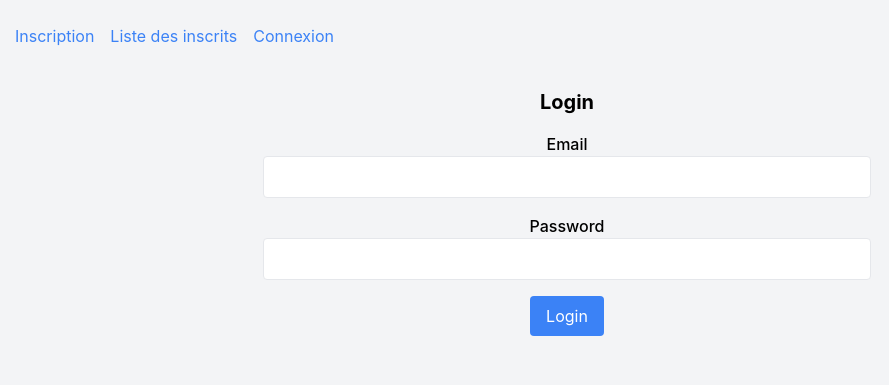
Scenario: Login Page testing › display error message for invalid user
In the field with id "email": (567, 177) [263, 156, 871, 198], type "fakeuser@example.com"
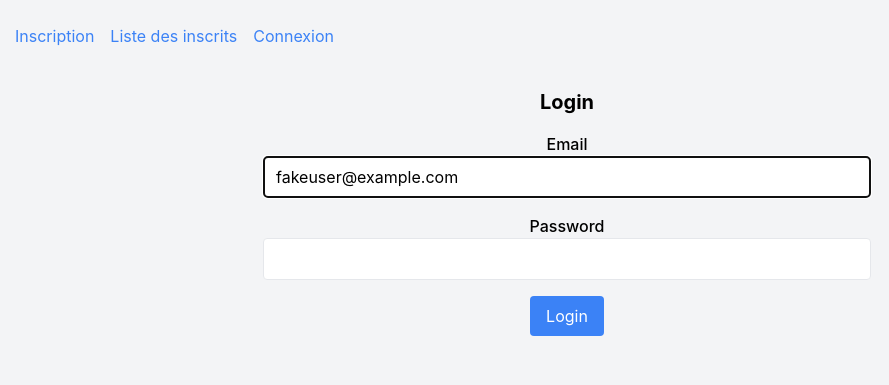
In the password field labelled "Password": (567, 259) [263, 238, 871, 280], type "wrongpassword"
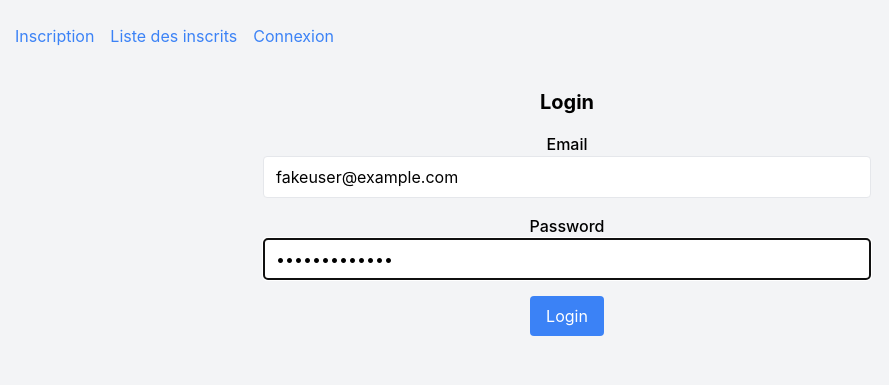
Click the submit button: (567, 316) [530, 296, 604, 336]
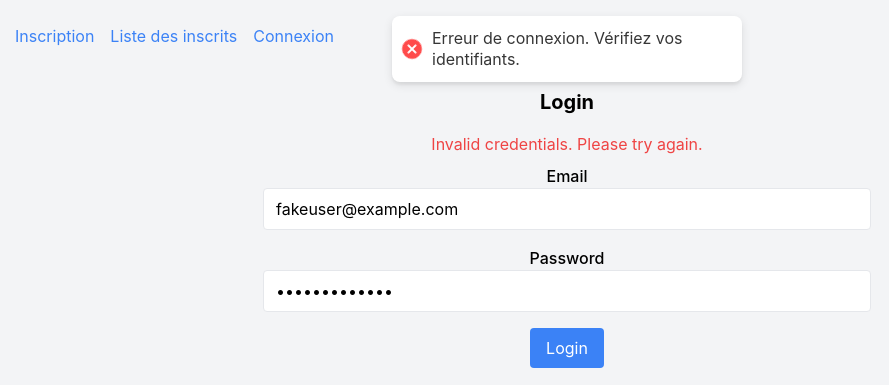
Expected: the text "Invalid credentials. Please try again." is shown, [431, 134, 703, 154]
